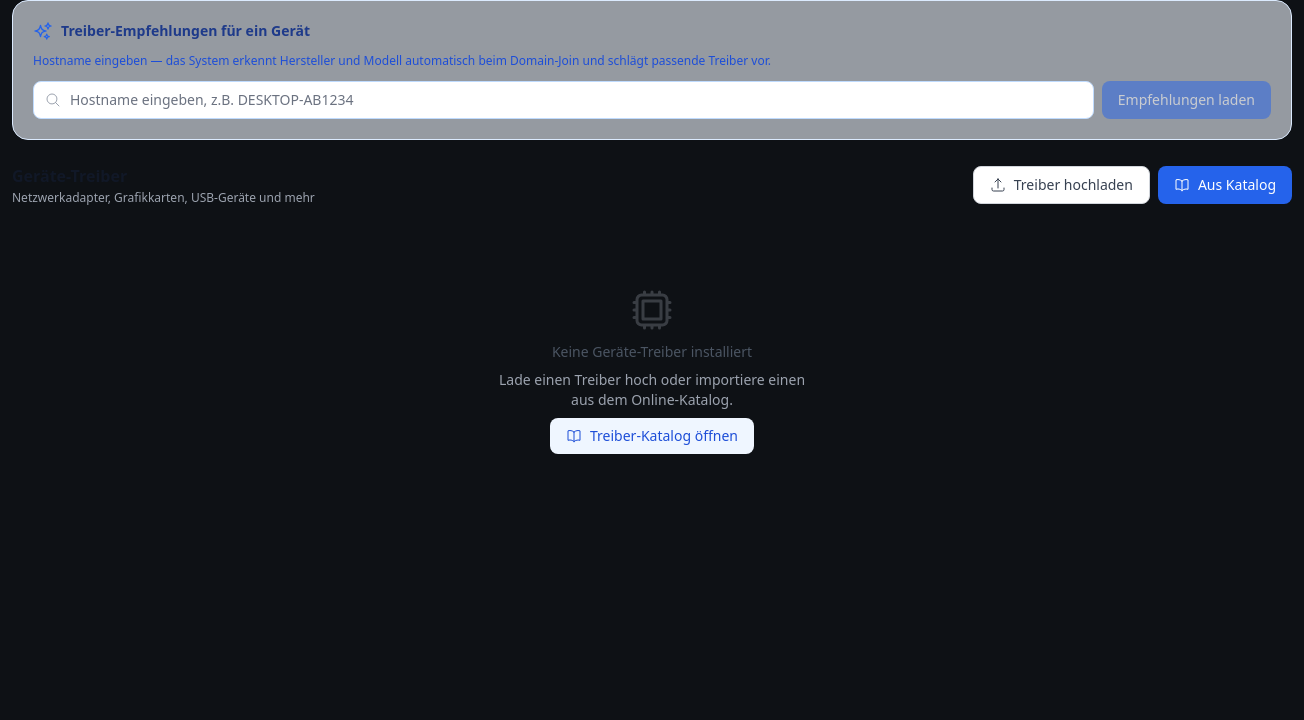
Test: DeviceDriversTab › a failing recommendations lookup does not crash and shows the no-results message
expect the text "Keine Geräte-Treiber installiert" is shown: met, box [552,342,752,362]
Type "host1" into the field with placeholder "Hostname eingeben, z.B. DESKTOP-AB1234" at (563, 100), box [33,81,1094,119]
Then press Enter
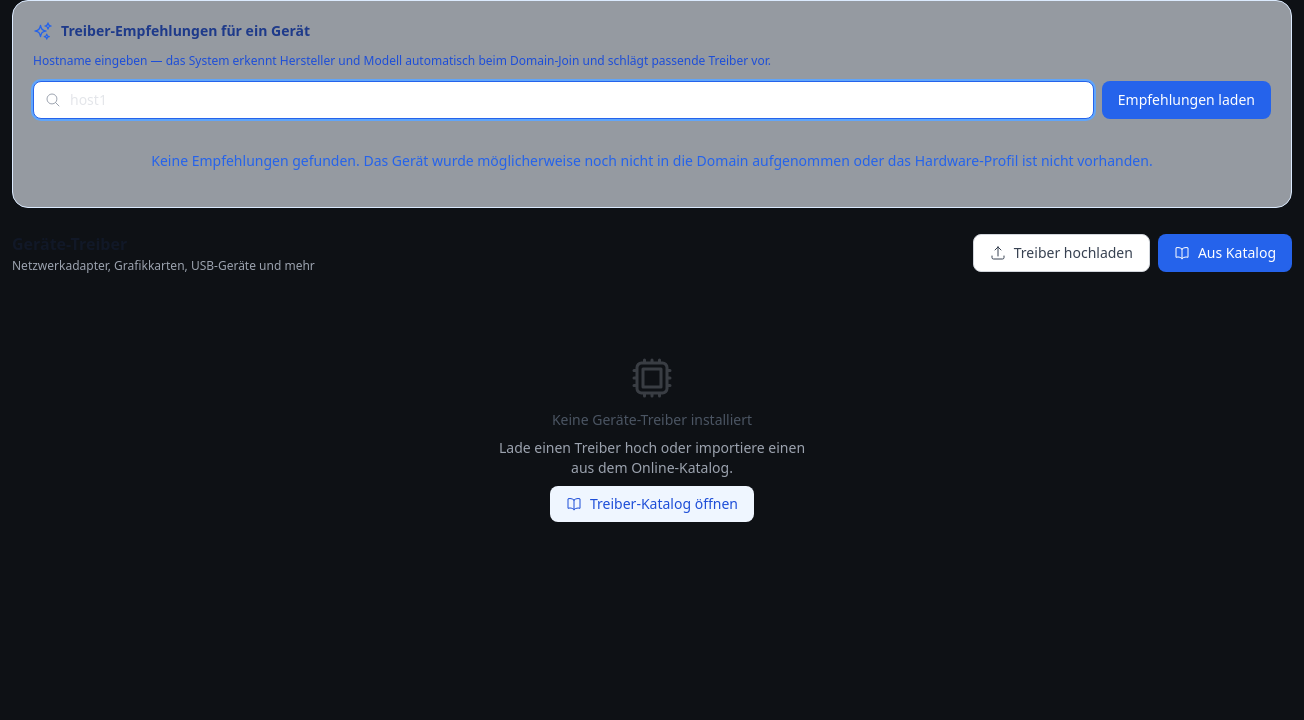
expect the text "Keine Empfehlungen gefunden" is shown: met, box [151,151,1153,170]
